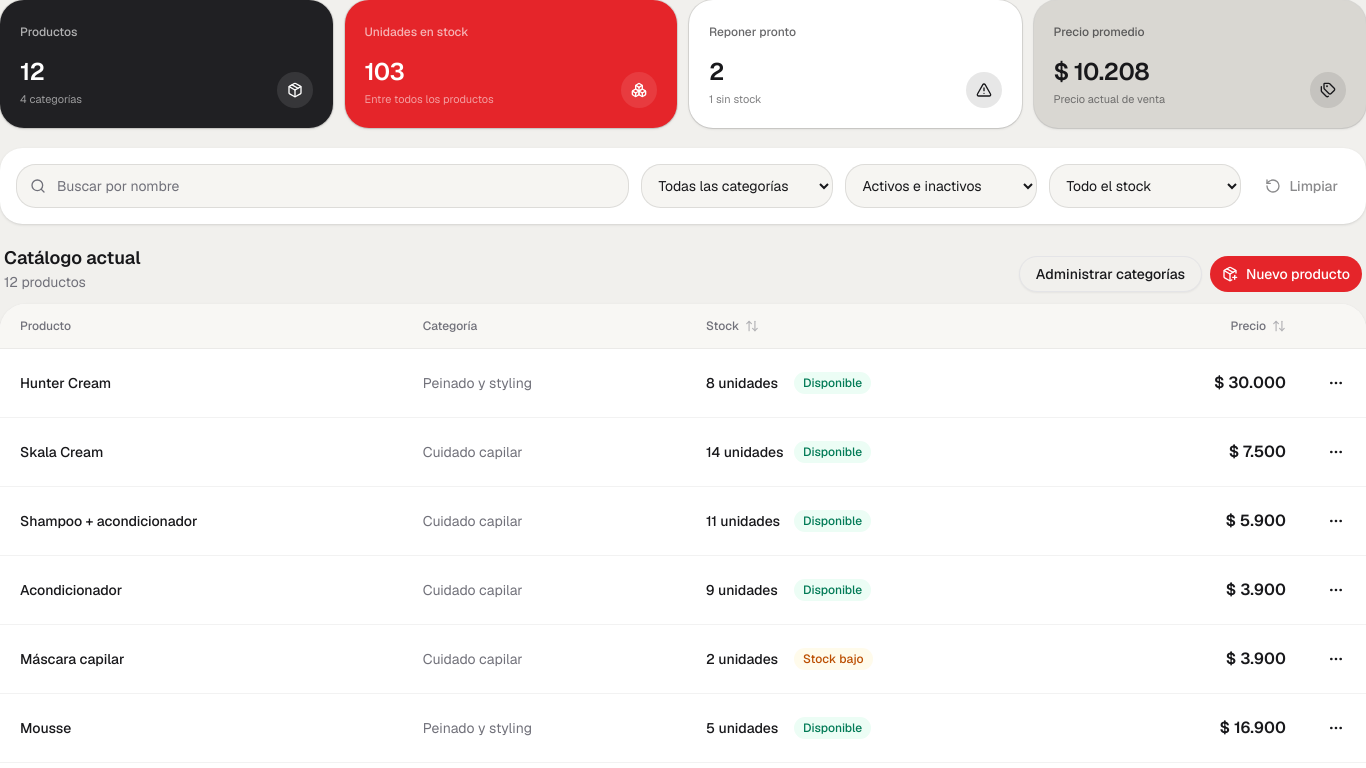
Test case: filters by product name and restores the complete catalog
Type "barba" into the search field named "buscar productos" at coordinates (323, 186), box 16,164 -> 629,208
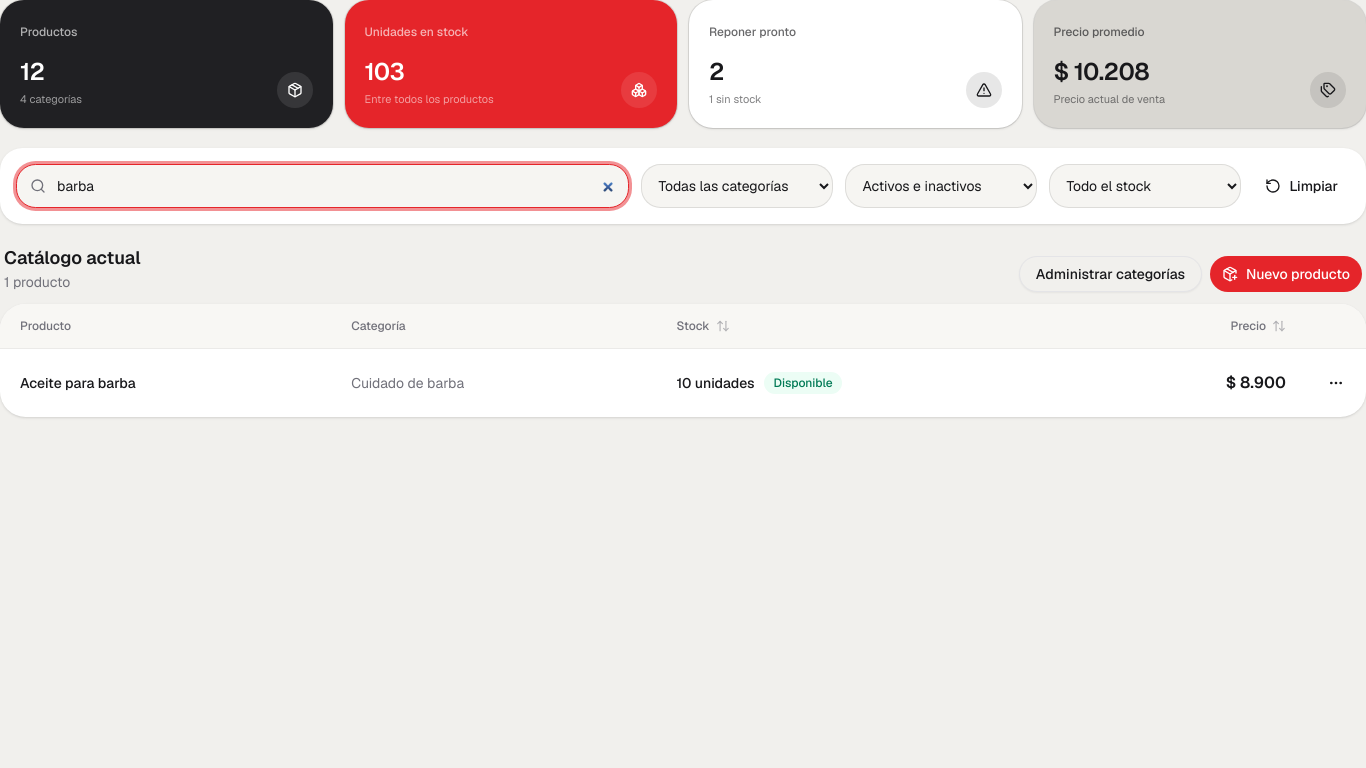
Expected: the text "Aceite para barba" is shown 2 times
Expected: the text "Hunter Cream" is gone
Clear the search field named "buscar productos" at coordinates (323, 186), box 16,164 -> 629,208
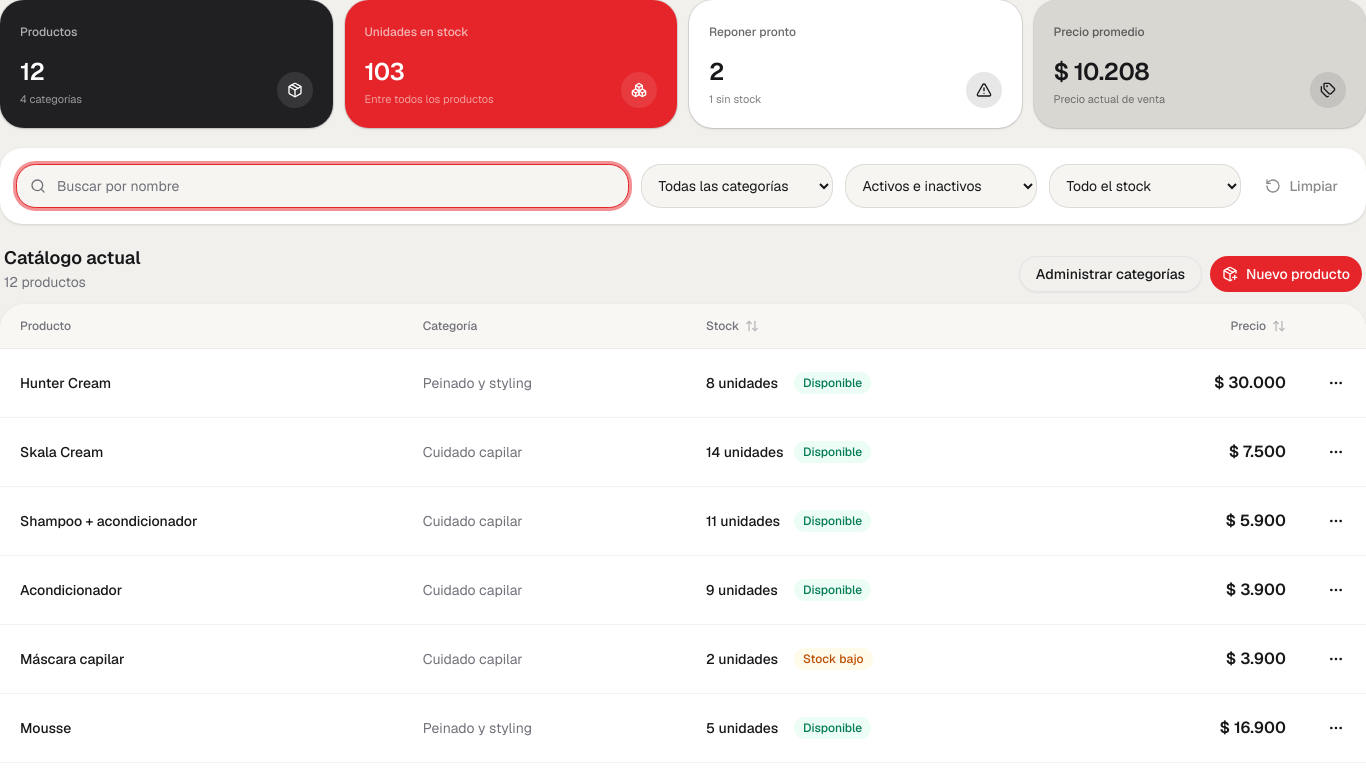
Expected: the text "Hunter Cream" is shown 2 times
